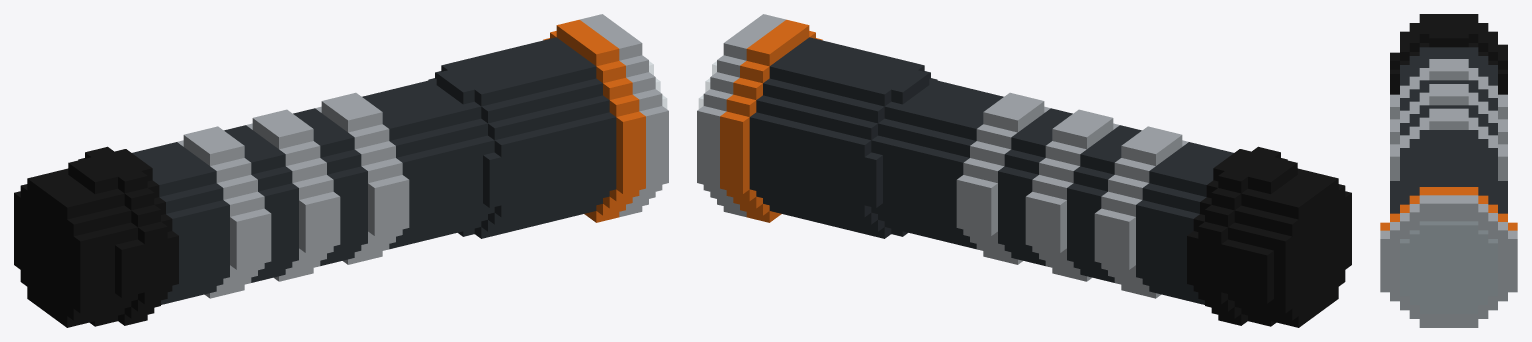
The model's file is mini_diving_flashlight.glb.
3 views of the same model, side by side, from view 1: azimuth 30°, elevation 25°; view 2: azimuth 150°, elevation 25°; view 3: azimuth 270°, elevation 25° (orthographic). The views are drawn at different scales.
Parts seen in each view (by area): view 1: mini_diving_flashlight:compound; view 2: mini_diving_flashlight:compound; view 3: mini_diving_flashlight:compound.
Part boxes in pixels (x1,y1,x2,y2): mini_diving_flashlight:compound: [14, 14, 668, 327]; mini_diving_flashlight:compound: [697, 14, 1351, 327]; mini_diving_flashlight:compound: [1380, 14, 1517, 327].
Size of the model in its own units: 0.102 by 0.028 by 0.028.
